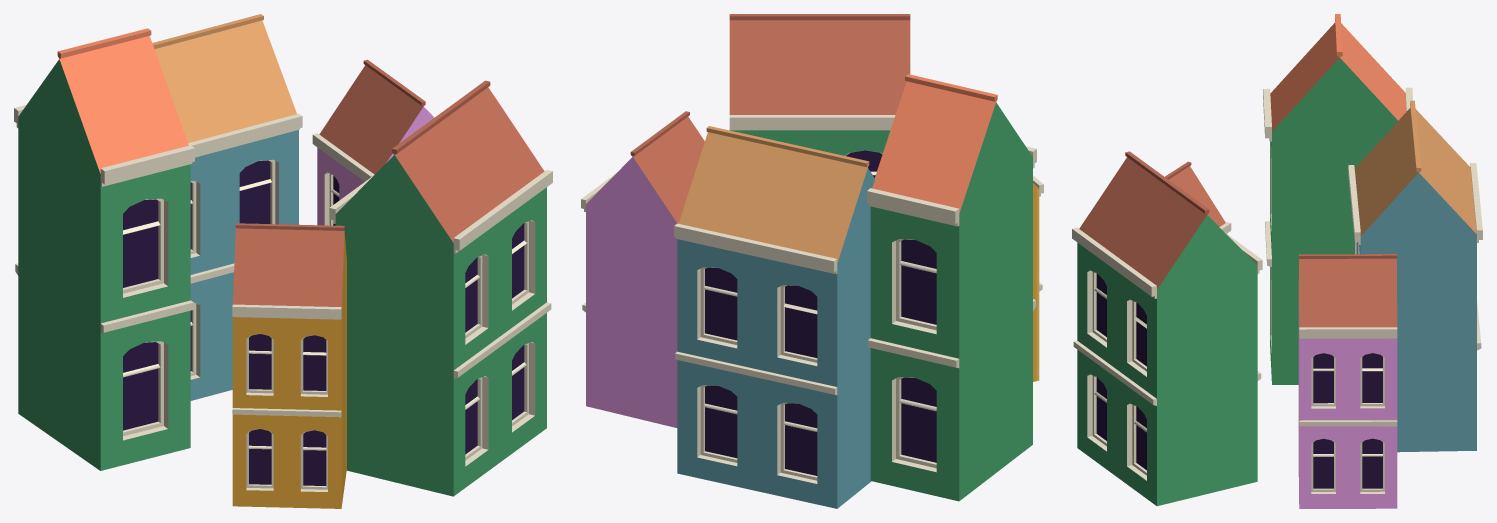
Rendered from M_CityTile_2.fbx.
3 renders of one model, left to right at view 1: azimuth 30°, elevation 25°; view 2: azimuth 150°, elevation 25°; view 3: azimuth 270°, elevation 25°, orthographic. The views are drawn at different scales.
Visible parts, largest first — view 1: M_CityTile_2; view 2: M_CityTile_2; view 3: M_CityTile_2.
Part boxes in pixels (box(x1,y1,x2,y2)): M_CityTile_2: box(14, 14, 552, 508); M_CityTile_2: box(581, 14, 1043, 508); M_CityTile_2: box(1072, 14, 1482, 508).
Bounding box in the file's own units: 1.38 × 1.3 × 1.45.
